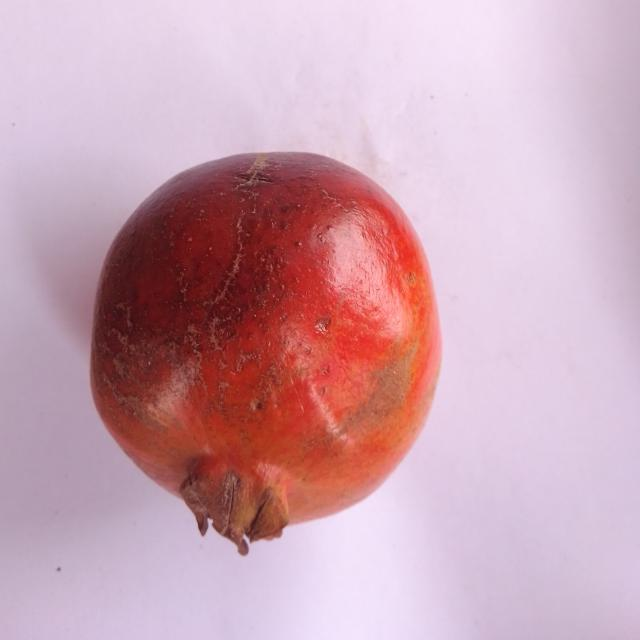Ripe: (85, 148, 451, 562)
